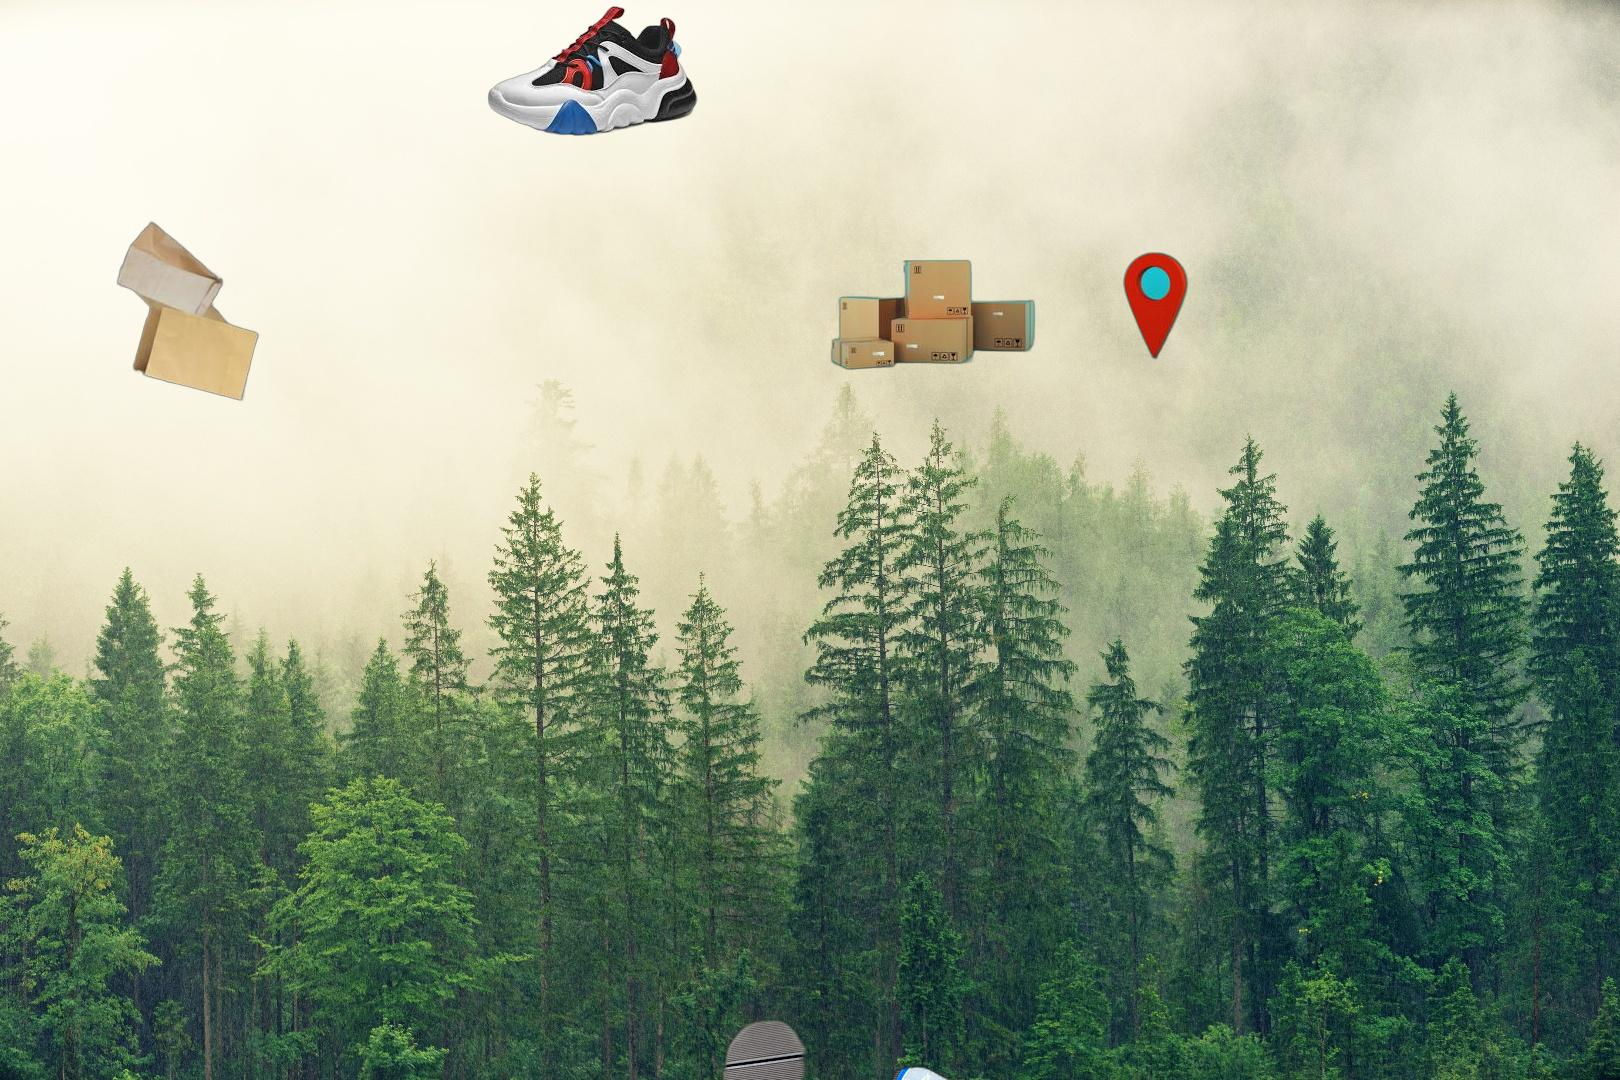paper-bag: (115, 219, 262, 403)
plastic-bottles: (580, 1015, 1017, 1080)
shoes: (486, 4, 700, 137)
trashbox-cardboard: (828, 250, 1191, 371)
